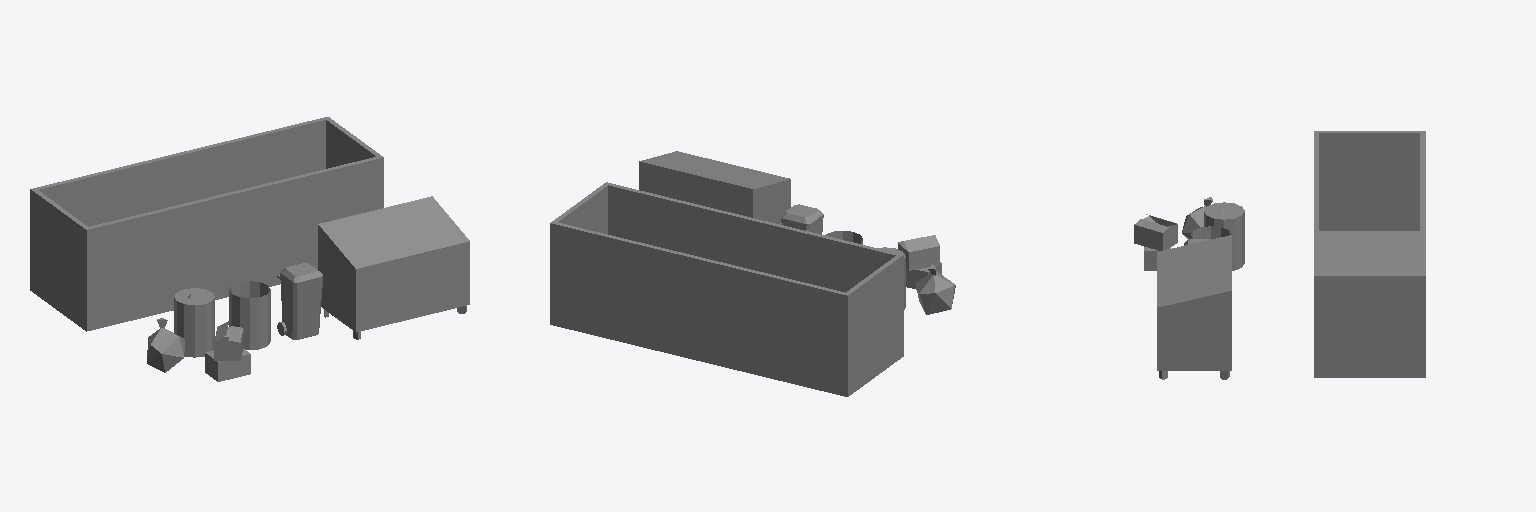
Rendered from Basurero.obj.
3 renders of one model, left to right at view 1: azimuth 30°, elevation 25°; view 2: azimuth 150°, elevation 25°; view 3: azimuth 270°, elevation 25°, orthographic.
Visible parts, largest first — view 1: CONTAINER2, CONTAINER1, CAN3, CAN1, CAN2, BAG, BOX2, BOX1; view 2: CONTAINER2, CONTAINER1, BAG, BOX2, CAN3; view 3: CONTAINER2, CONTAINER1, CAN1, BOX2.
Boxes of the visible parts, <box> form: CONTAINER2: <box>30,117,383,331</box>; CONTAINER1: <box>318,196,469,339</box>; CAN3: <box>277,263,322,339</box>; CAN1: <box>174,288,214,357</box>; CAN2: <box>229,281,270,349</box>; BAG: <box>147,318,184,372</box>; BOX2: <box>214,321,243,360</box>; BOX1: <box>205,349,250,381</box>; CONTAINER2: <box>550,182,903,396</box>; CONTAINER1: <box>639,151,790,223</box>; BAG: <box>915,264,955,314</box>; BOX2: <box>898,235,939,270</box>; CAN3: <box>780,204,823,234</box>; CONTAINER2: <box>1314,131,1425,377</box>; CONTAINER1: <box>1157,235,1231,379</box>; CAN1: <box>1204,202,1244,270</box>; BOX2: <box>1134,214,1177,250</box>.
Bounding box in the file's own units: 252 × 80 × 208.